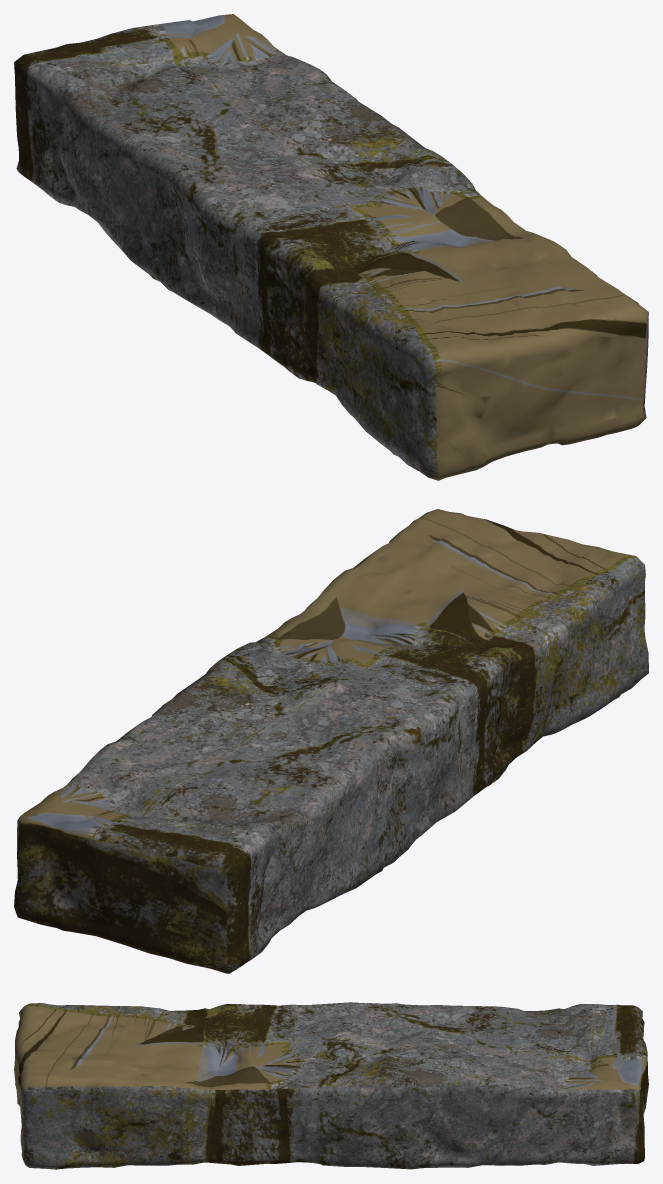
File: SM_StonePlate_E.fbx
3 views of the same model, one above another, from view 1: azimuth 30°, elevation 25°; view 2: azimuth 150°, elevation 25°; view 3: azimuth 270°, elevation 25° (orthographic). The views are drawn at different scales.
Parts seen in each view (by area): view 1: SM_StonePlate_E_LOD0; view 2: SM_StonePlate_E_LOD0; view 3: SM_StonePlate_E_LOD0.
Boxes of the visible parts, x1,y1,x2,y2 form: SM_StonePlate_E_LOD0: [14, 14, 648, 480]; SM_StonePlate_E_LOD0: [14, 509, 648, 973]; SM_StonePlate_E_LOD0: [14, 1002, 648, 1169].
Bounding box in the file's own units: 569 × 1792 × 300.
